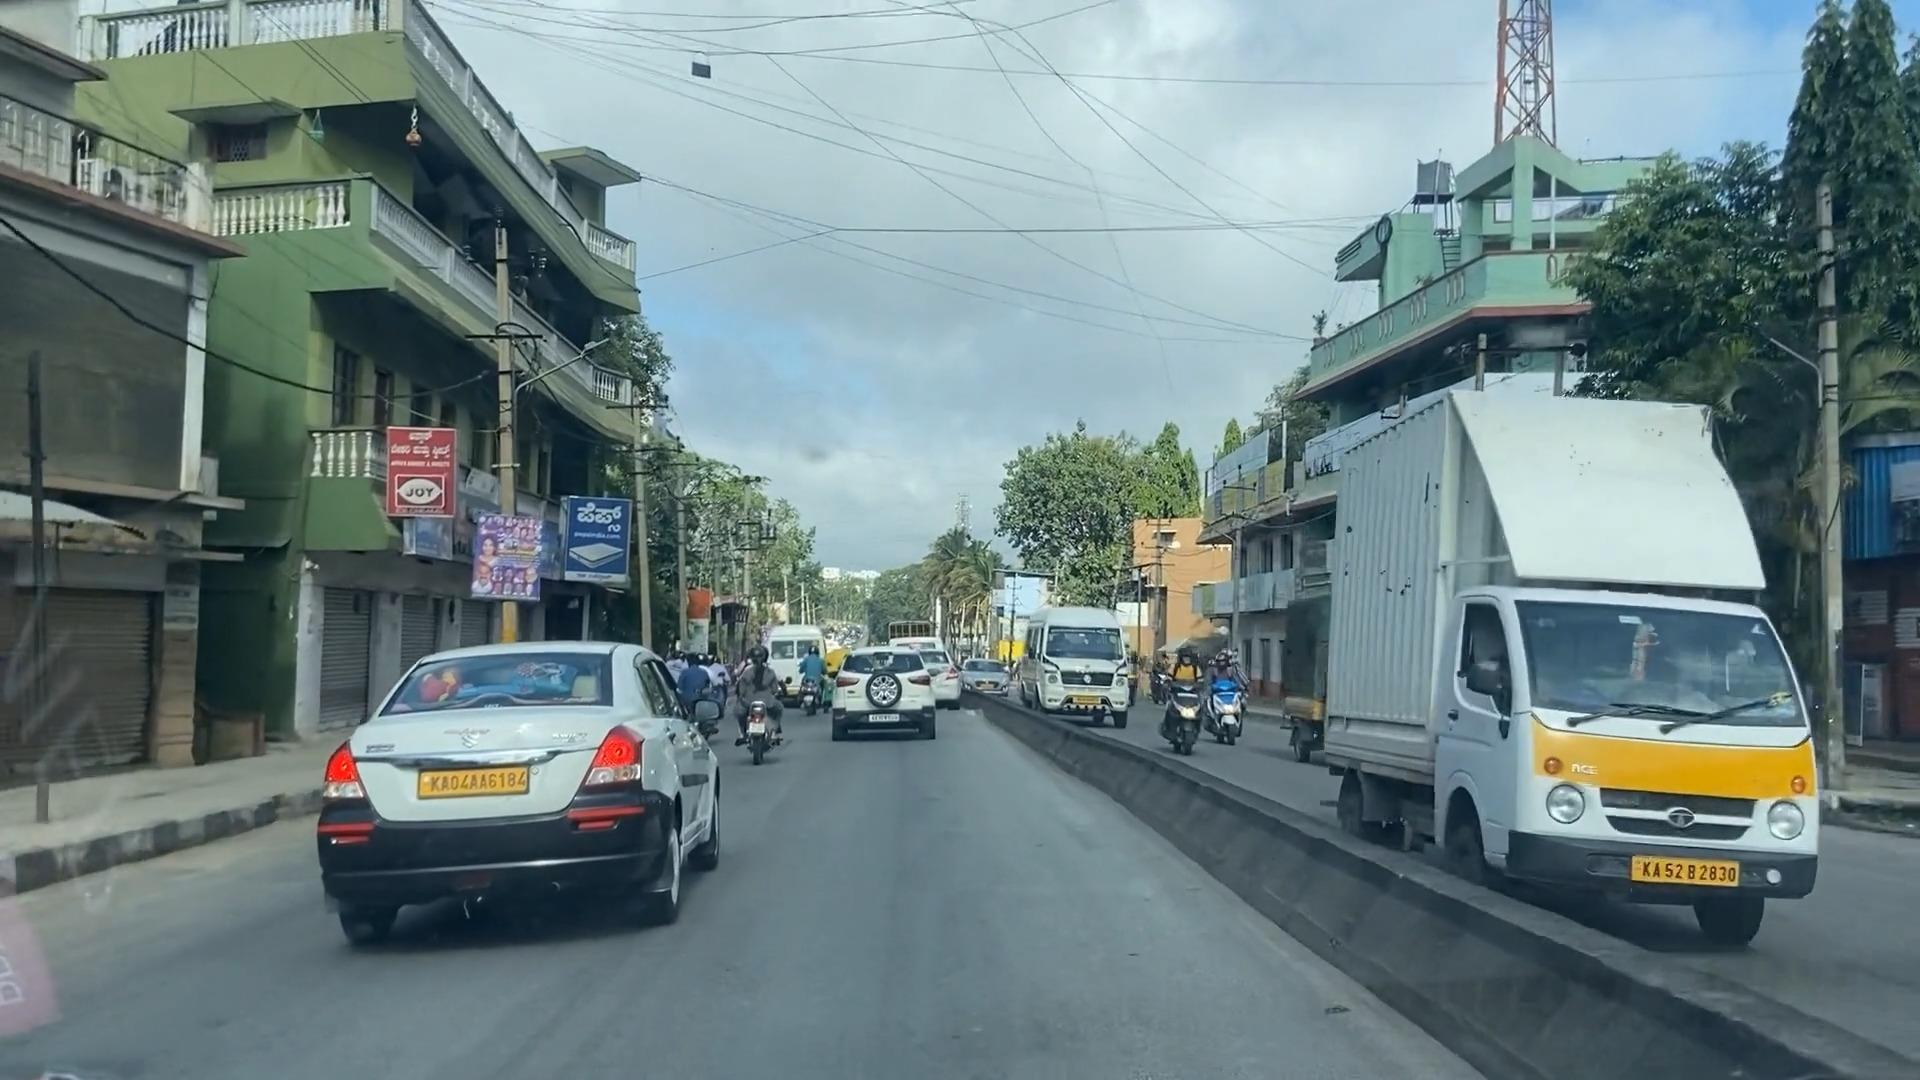LMV: (323, 651, 720, 956), (833, 650, 936, 744), (738, 641, 783, 764)
